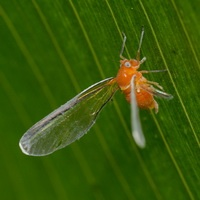insect: (19, 27, 172, 155)
